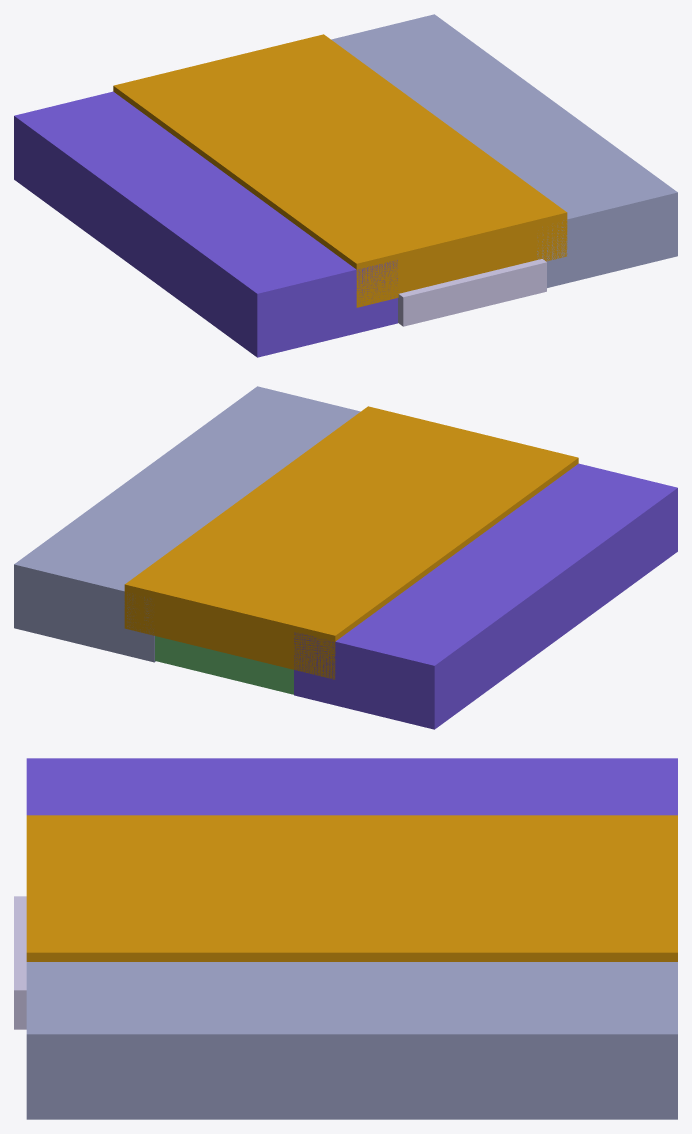
File: nav_mesh_create.glb
The picture shows the model from 3 angles, top to bottom: view 1: azimuth 30°, elevation 25°; view 2: azimuth 150°, elevation 25°; view 3: azimuth 270°, elevation 25°; orthographic projection. The views are drawn at different scales.
Bounding box in the file's own units: 150 × 24.08 × 153.
